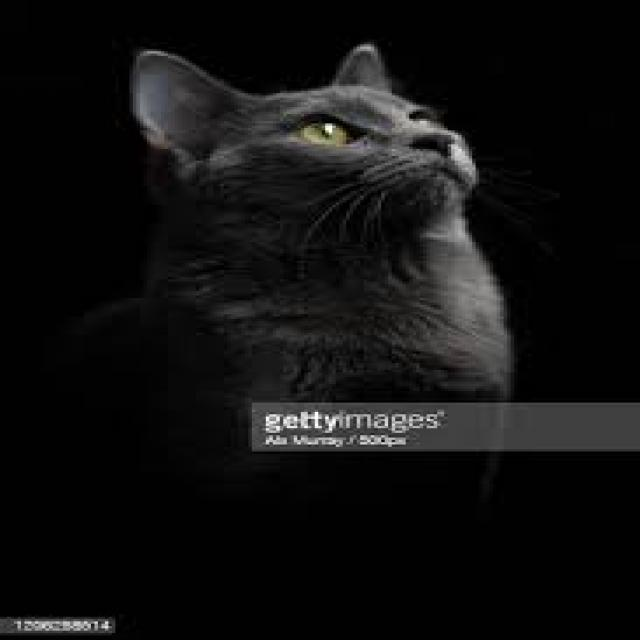Cat: (116, 36, 520, 402)
